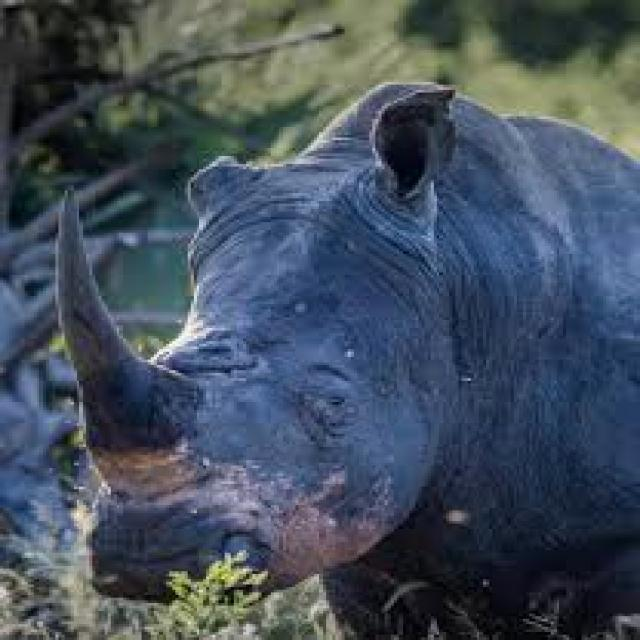rhinoceros: (62, 82, 640, 637)
